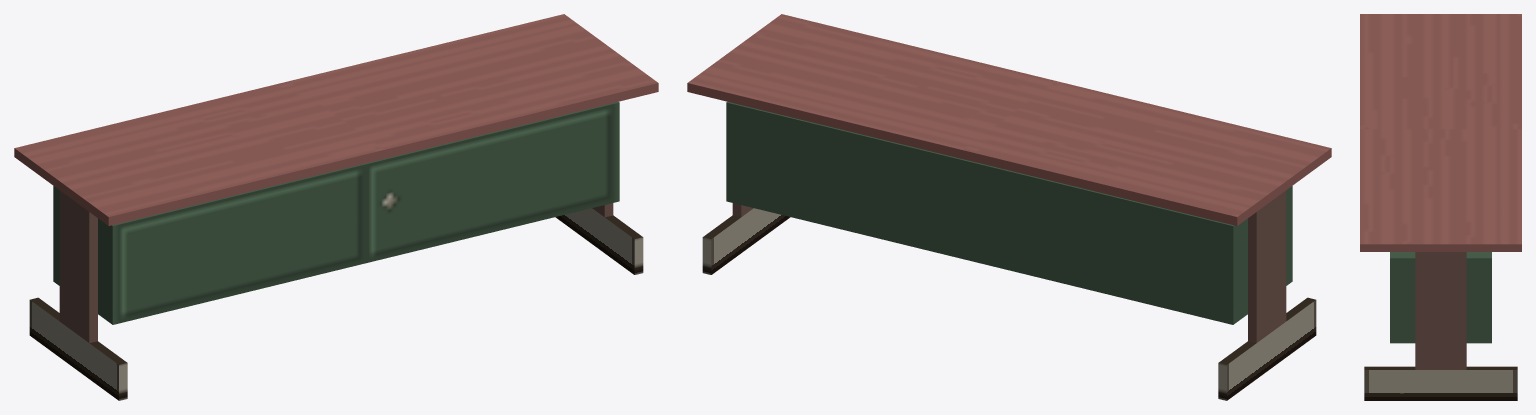
Rendered from prop_desk_02.obj.
3 renders of one model, left to right at view 1: azimuth 30°, elevation 25°; view 2: azimuth 150°, elevation 25°; view 3: azimuth 270°, elevation 25°, orthographic. The views are drawn at different scales.
Parts seen in each view (by area): view 1: entity1_brush0, entity1_brush6, entity1_brush2, entity1_brush3, entity1_brush5; view 2: entity1_brush0, entity1_brush6, entity1_brush2, entity1_brush3, entity1_brush5; view 3: entity1_brush0, entity1_brush4, entity1_brush5, entity1_brush6.
Boxes of the visible parts, bbox=[...] form: entity1_brush0: bbox=[14, 14, 658, 225]; entity1_brush6: bbox=[53, 101, 619, 324]; entity1_brush2: bbox=[59, 190, 97, 342]; entity1_brush3: bbox=[29, 297, 127, 400]; entity1_brush5: bbox=[555, 208, 643, 274]; entity1_brush0: bbox=[687, 14, 1331, 225]; entity1_brush6: bbox=[726, 101, 1292, 324]; entity1_brush2: bbox=[1248, 190, 1286, 342]; entity1_brush3: bbox=[1218, 297, 1316, 400]; entity1_brush5: bbox=[702, 208, 790, 274]; entity1_brush0: bbox=[1360, 14, 1521, 251]; entity1_brush4: bbox=[1415, 252, 1466, 369]; entity1_brush5: bbox=[1364, 366, 1517, 400]; entity1_brush6: bbox=[1390, 252, 1491, 343].
Size of the model in its own units: 128 by 42 by 38.
